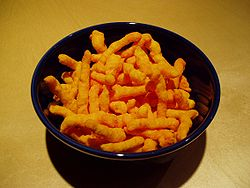cheese: (76, 49, 183, 139)
